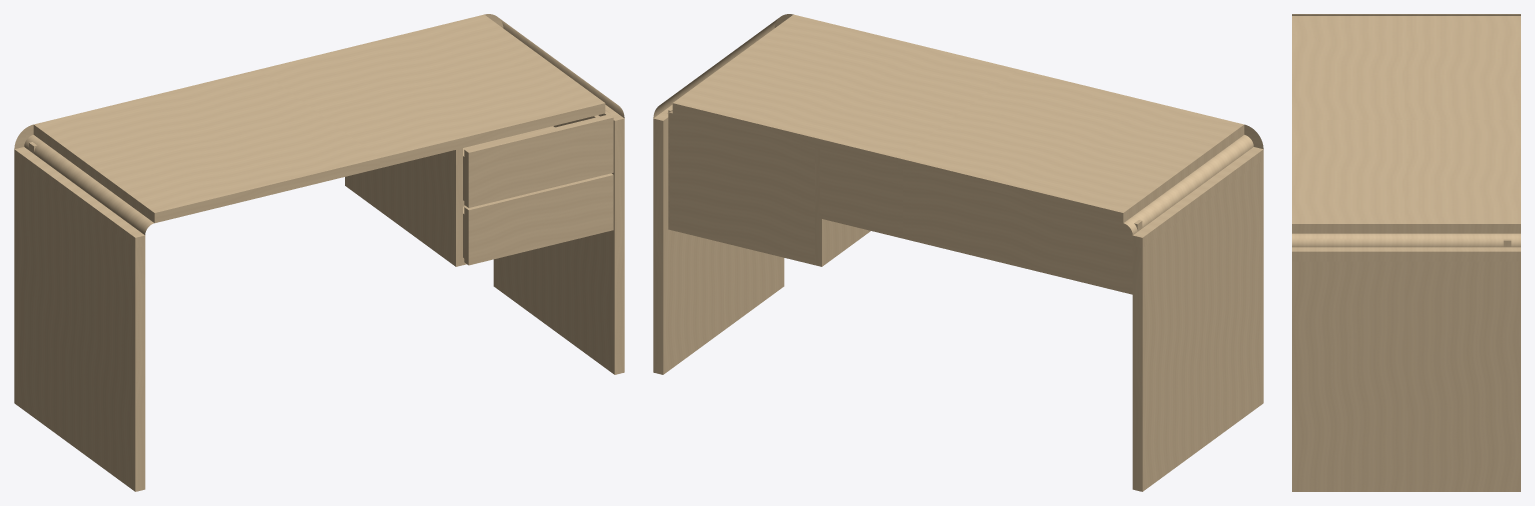
Rendered from escritorio_madera_clara.glb.
3 views of the same model, side by side, from view 1: azimuth 30°, elevation 25°; view 2: azimuth 150°, elevation 25°; view 3: azimuth 270°, elevation 25° (orthographic). The views are drawn at different scales.
Visible parts, largest first — view 1: desk-top, left-leg, right-leg, upper-drawer-front, lower-drawer-front, drawer-cabinet-left, left-curve, right-curve; view 2: desk-top, left-leg, desk-apron, drawer-cabinet-back, right-leg, left-curve, drawer-cabinet-left, right-curve; view 3: right-leg, desk-top, right-curve, left-curve.
Part boxes in pixels (x1,y1,x2,y2): desk-top: (33,14,605,222); left-leg: (14,147,145,491); right-leg: (493,104,624,374); upper-drawer-front: (464,114,613,207); lower-drawer-front: (464,173,613,265); drawer-cabinet-left: (345,148,462,266); left-curve: (14,124,154,234); right-curve: (484,14,624,119); desk-top: (672,14,1244,223); left-leg: (1132,147,1263,491); desk-apron: (819,149,1142,294); drawer-cabinet-back: (668,107,814,265); right-leg: (653,104,784,374); left-curve: (1123,124,1263,234); drawer-cabinet-left: (815,148,870,266); right-curve: (653,14,793,118); right-leg: (1292,247,1520,491); desk-top: (1292,16,1520,233); right-curve: (1292,224,1520,251); left-curve: (1292,14,1520,15).
Size of the model in its own units: 1.4 by 0.75 by 0.6.
1 material, 1 textured.
